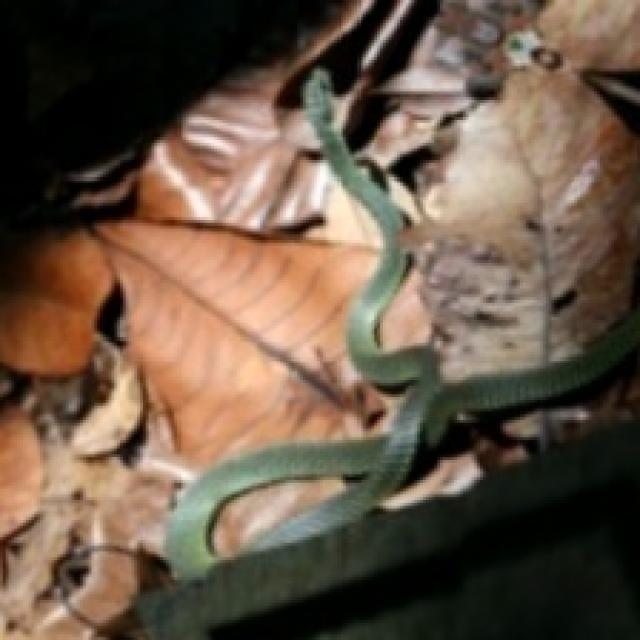paradise tree snake: (143, 69, 637, 637), (209, 474, 357, 571)
